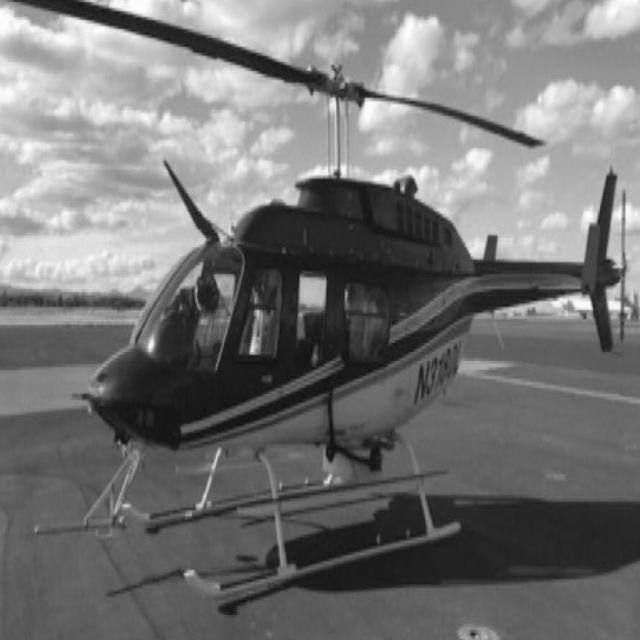helicopter: (1, 1, 638, 620)
